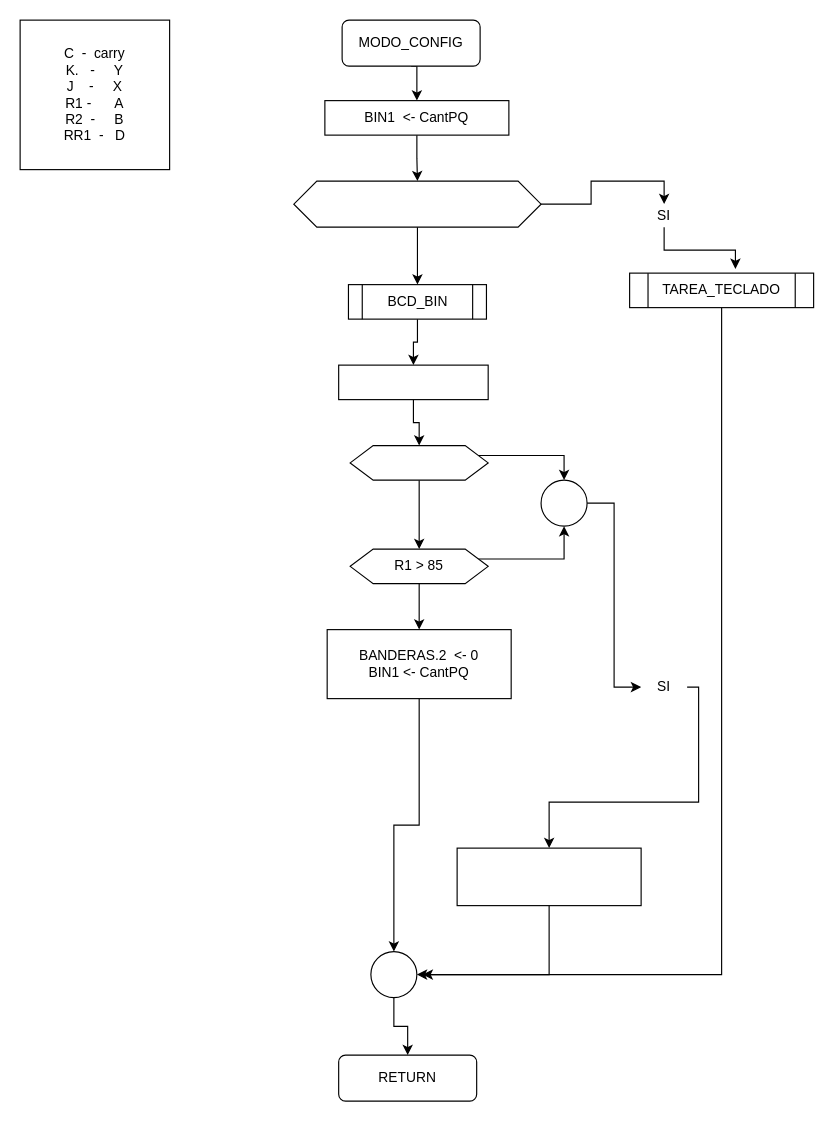
Image size: 834x1121. Some labels were removed from this diagram. The box of each missing label's shape, as (x1, y1, x2, y2) in pixels:
BANDERAS.2 <- 0: (293, 180, 541, 227)
BANDERAS.2 <- 0 BIN1 <- 0: (456, 847, 641, 906)
R1 < 25: (349, 444, 488, 480)
R1 <- CantPQ: (338, 364, 488, 400)
